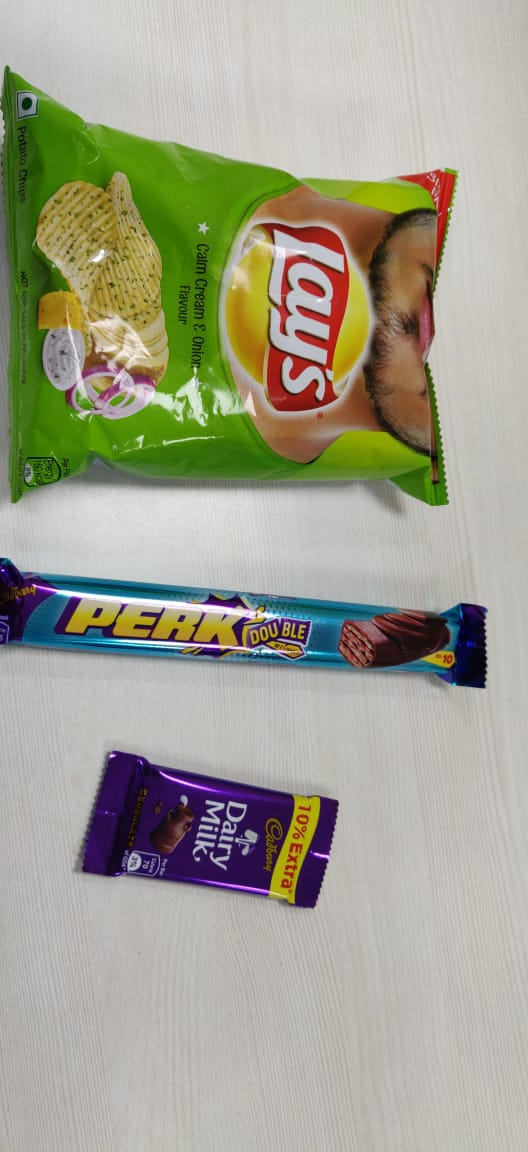dairy milk: (73, 742, 350, 934)
lays chips: (5, 58, 471, 525)
perk: (1, 551, 505, 709)
